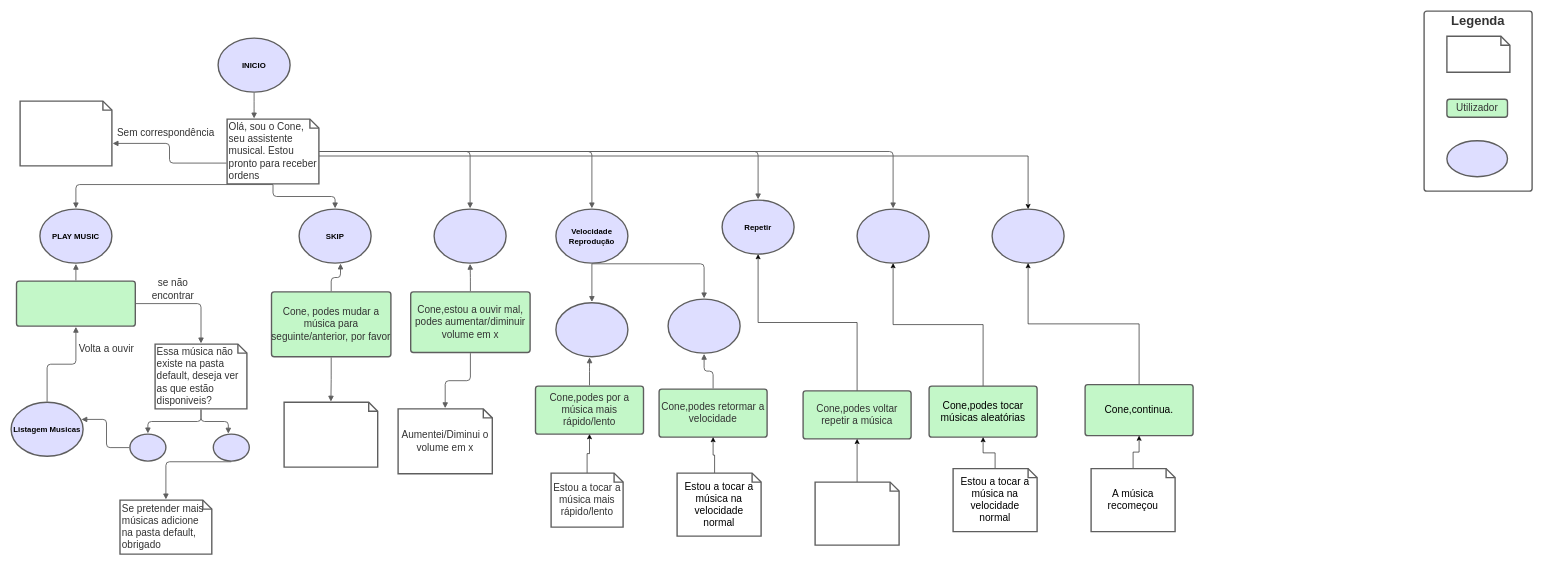
Some shapes in this 1543 by 565 pixel diagram are drawn without their labels. The shapes that lost their labels are listed below. From the top down, each one's box as (x1, y1, x2, y2) in pixels, then its label:
(1446, 35, 1510, 73): Assistente
(19, 100, 112, 166): Desculpe não percebi, pode voltar repetir doutra forma, obrigado.
(1446, 140, 1508, 177): Ações VLC
(433, 208, 507, 264): VOLUME
(856, 208, 930, 264): Aleatório
(991, 208, 1065, 264): RESUME
(16, 280, 136, 327): Cone, apetece-me ouvir esta música x, por favor.
(555, 302, 628, 357): Rápido/Lento
(667, 298, 741, 354): Normal
(129, 433, 166, 462): SIM
(212, 433, 250, 462): NÃO
(283, 401, 378, 468): Passei a música para seguinte/anterior
(814, 481, 900, 546): A música que está a tocar vai estar tocar outra vez
